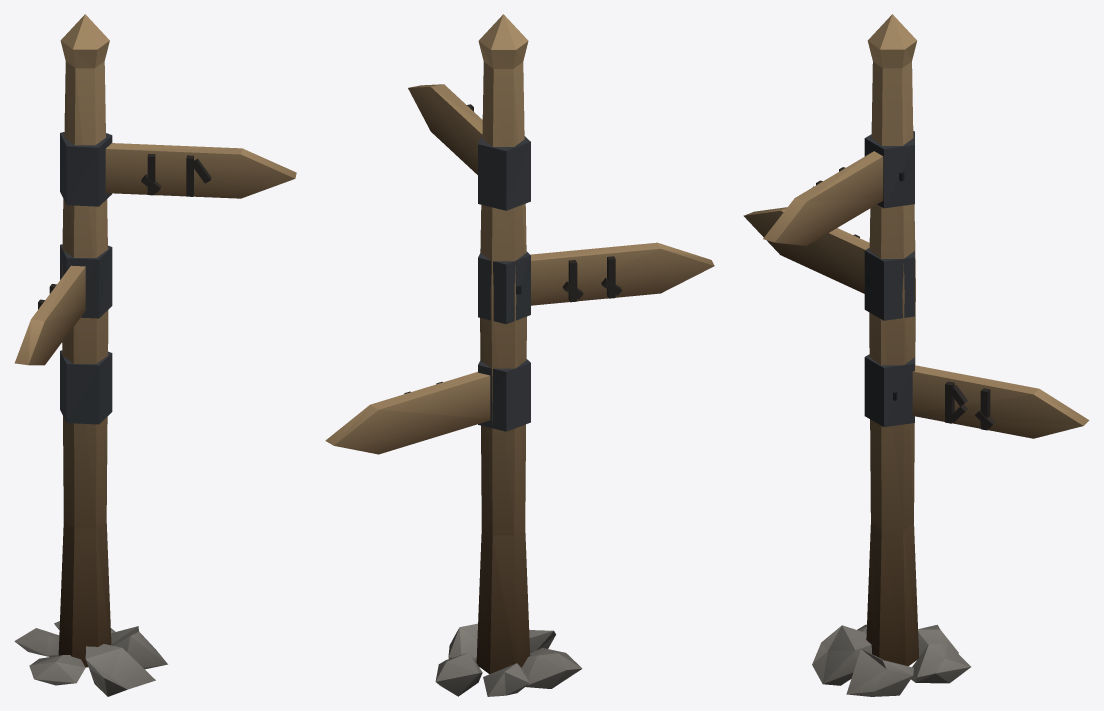
Rendered from waypost.glb.
The picture shows the model from 3 angles, left to right: view 1: azimuth 30°, elevation 25°; view 2: azimuth 150°, elevation 25°; view 3: azimuth 270°, elevation 25°; orthographic projection.
Visible parts, largest first — view 1: waypost; view 2: waypost; view 3: waypost.
Part boxes in pixels (x1,y1,x2,y2): waypost: [14, 14, 296, 696]; waypost: [325, 14, 714, 696]; waypost: [743, 14, 1089, 696].
Bounding box in the file's own units: 1.04 × 2.24 × 1.06.
